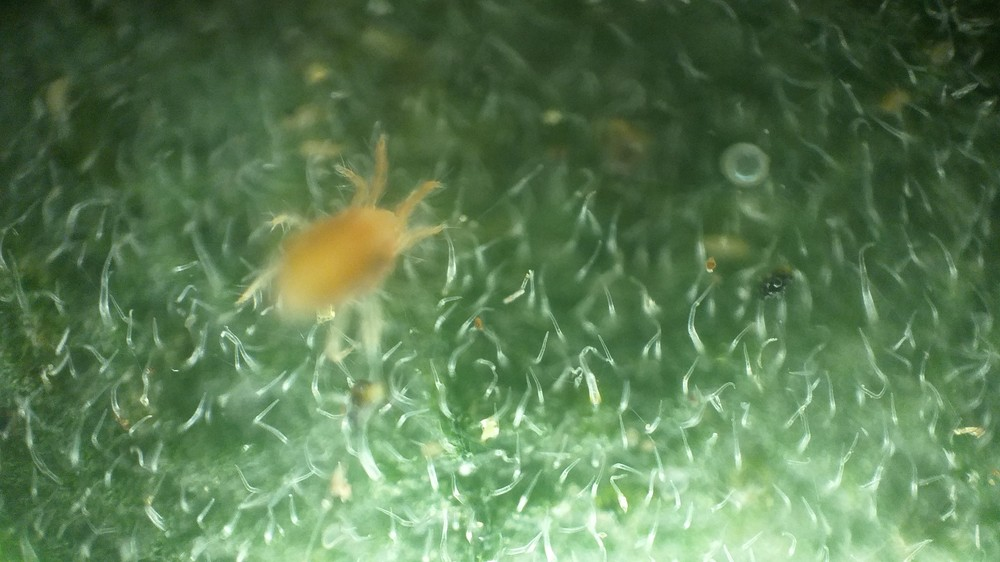Aracnido Rojo: (218, 127, 466, 365)
